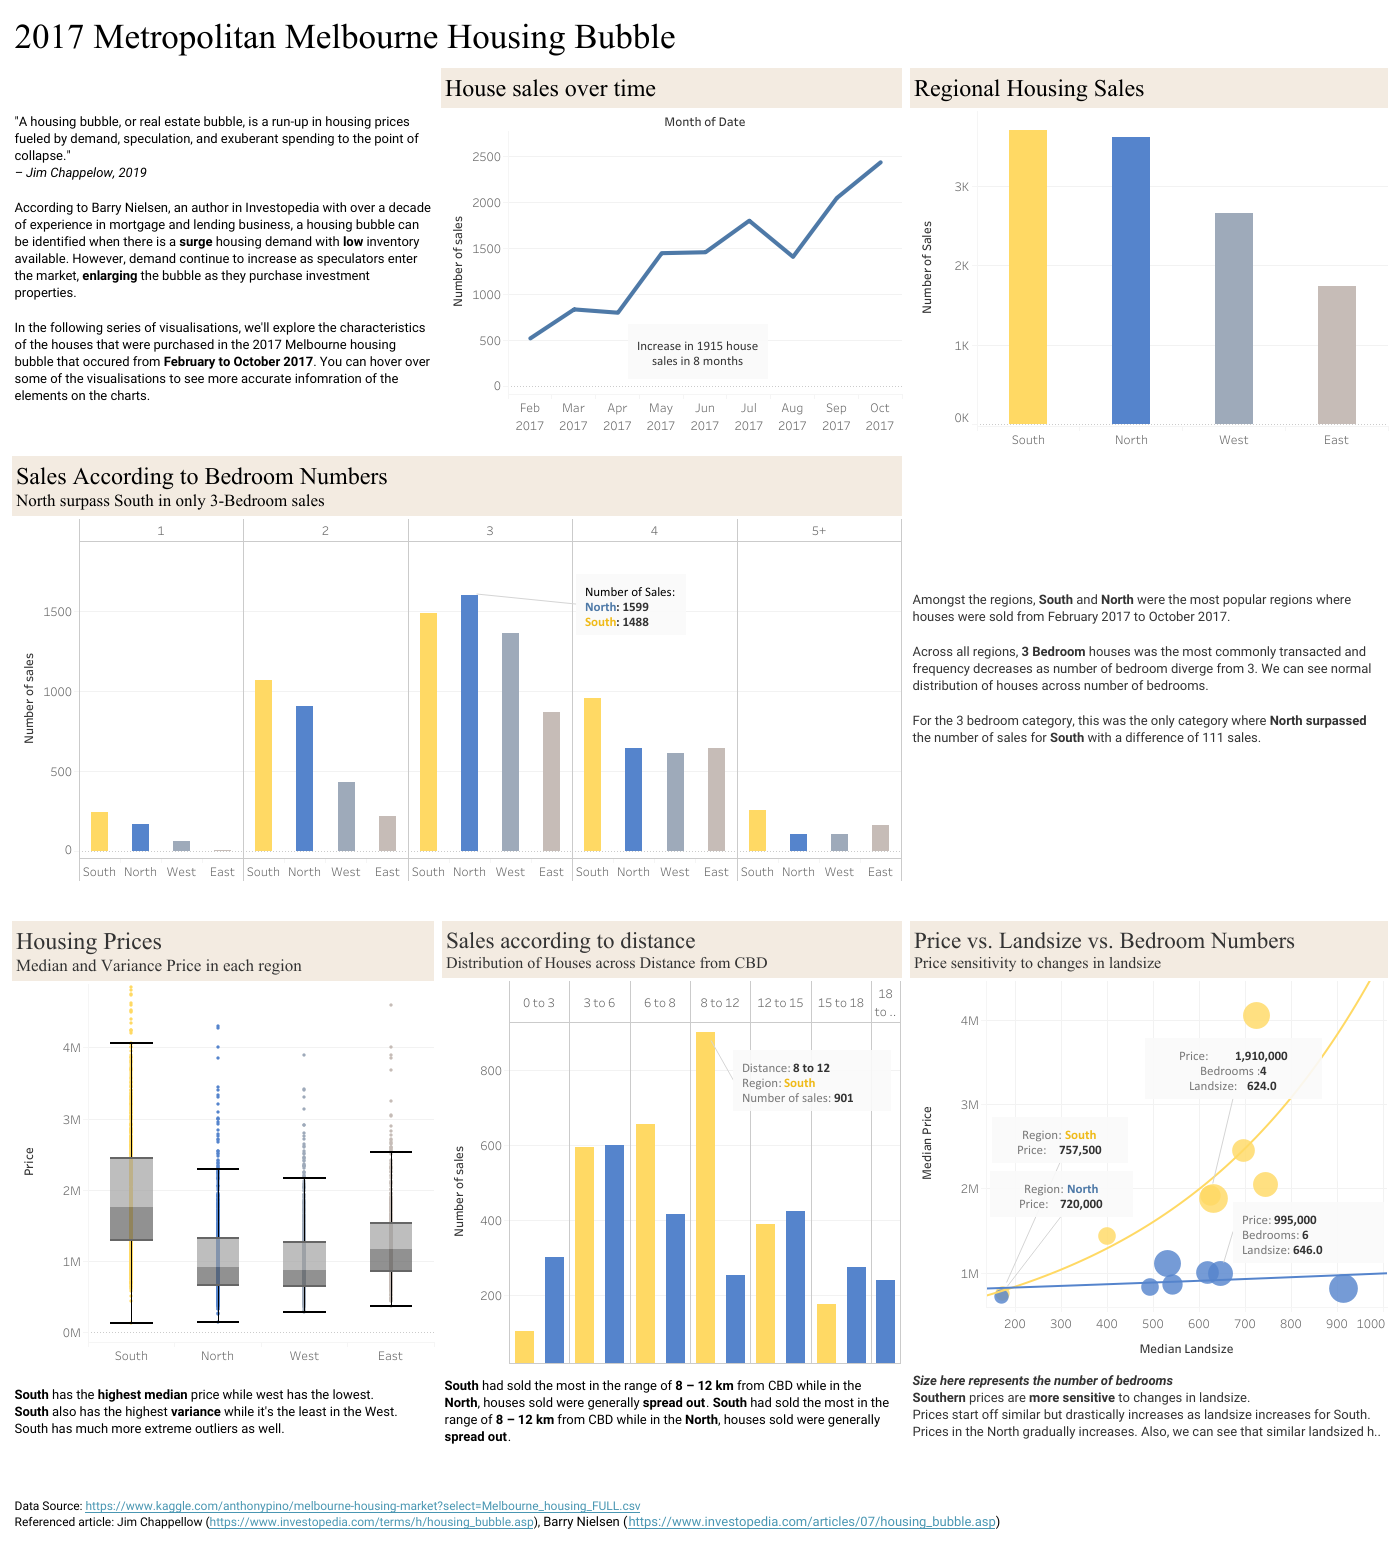

The page's visual inventory and layout, read from the dashboard file:
{"tool":"tableau","page":{"name":"Dashboard 1","canvas":[1400,1550],"ordinal":0},"visuals":[{"type":"worksheet","box":[0,0,1400,1550]},{"type":"worksheet","param":"horz","box":[8,8,1384,1446]},{"type":"worksheet","param":"horz","box":[8,8,1384,1446]},{"type":"worksheet","param":"horz","box":[8,8,1384,1446]},{"type":"worksheet","param":"horz","box":[8,8,1384,1446]},{"type":"worksheet","param":"horz","box":[8,8,1384,1446]},{"type":"worksheet","box":[8,8,1384,1446]},{"type":"worksheet","box":[8,8,1384,55.6]},{"type":"worksheet","box":[8,63.6,429,388.4]},{"type":"worksheet","title":"Largest rise in Melbourne market","mark":"Line","rows":["Price"],"cols":["Date"],"box":[437,63.6,469,388.4]},{"type":"worksheet","title":"bedroom distribution in each region","mark":"Bar","rows":["Price"],"cols":["Regionname"],"box":[906,63.6,486,388.4]},{"type":"worksheet","title":"No. of bedroom","mark":"Bar","rows":["Bedroom2"],"cols":["Regionname"],"box":[8,452,898,433]},{"type":"worksheet","box":[906,452,486,433]},{"type":"worksheet","box":[8,885,898,32]},{"type":"worksheet","box":[906,885,486,32]},{"type":"worksheet","title":"Pricing Variation","mark":"Circle","rows":["Price"],"cols":["Regionname"],"box":[8,917,430,451.3]},{"type":"worksheet","title":"Distance, landsize","mark":"Automatic","rows":["Landsize"],"cols":["Regionname"],"box":[438,917,468,451.3]},{"type":"worksheet","title":"Price,room,landsize (2)","mark":"Circle","rows":["Price"],"cols":["Landsize"],"box":[906,917,486,451.3]},{"type":"worksheet","box":[8,1368.3,430,85.7]},{"type":"worksheet","box":[438,1368.3,468,85.7]},{"type":"worksheet","box":[906,1368.3,486,85.7]},{"type":"worksheet","box":[8,1454,1384,32]},{"type":"worksheet","box":[8,1486,1384,56]}]}

Visuals, with their boxes in screenshot pixels (x1, y1, x2, y2), scaled from the page's 1400x1550 canvas onto the 1399x1549 screenshot:
worksheet: pyautogui.locateOnScreen(0, 0, 1398, 1548)
worksheet: pyautogui.locateOnScreen(8, 8, 1391, 1453)
worksheet: pyautogui.locateOnScreen(8, 8, 1391, 1453)
worksheet: pyautogui.locateOnScreen(8, 8, 1391, 1453)
worksheet: pyautogui.locateOnScreen(8, 8, 1391, 1453)
worksheet: pyautogui.locateOnScreen(8, 8, 1391, 1453)
worksheet: pyautogui.locateOnScreen(8, 8, 1391, 1453)
worksheet: pyautogui.locateOnScreen(8, 8, 1391, 64)
worksheet: pyautogui.locateOnScreen(8, 64, 437, 452)
"Largest rise in Melbourne market" worksheet (Line marks): pyautogui.locateOnScreen(437, 64, 905, 452)
"bedroom distribution in each region" worksheet (Bar marks): pyautogui.locateOnScreen(905, 64, 1391, 452)
"No. of bedroom" worksheet (Bar marks): pyautogui.locateOnScreen(8, 452, 905, 884)
worksheet: pyautogui.locateOnScreen(905, 452, 1391, 884)
worksheet: pyautogui.locateOnScreen(8, 884, 905, 916)
worksheet: pyautogui.locateOnScreen(905, 884, 1391, 916)
"Pricing Variation" worksheet (Circle marks): pyautogui.locateOnScreen(8, 916, 438, 1367)
"Distance, landsize" worksheet: pyautogui.locateOnScreen(438, 916, 905, 1367)
"Price,room,landsize (2)" worksheet (Circle marks): pyautogui.locateOnScreen(905, 916, 1391, 1367)
worksheet: pyautogui.locateOnScreen(8, 1367, 438, 1453)
worksheet: pyautogui.locateOnScreen(438, 1367, 905, 1453)
worksheet: pyautogui.locateOnScreen(905, 1367, 1391, 1453)
worksheet: pyautogui.locateOnScreen(8, 1453, 1391, 1485)
worksheet: pyautogui.locateOnScreen(8, 1485, 1391, 1541)
